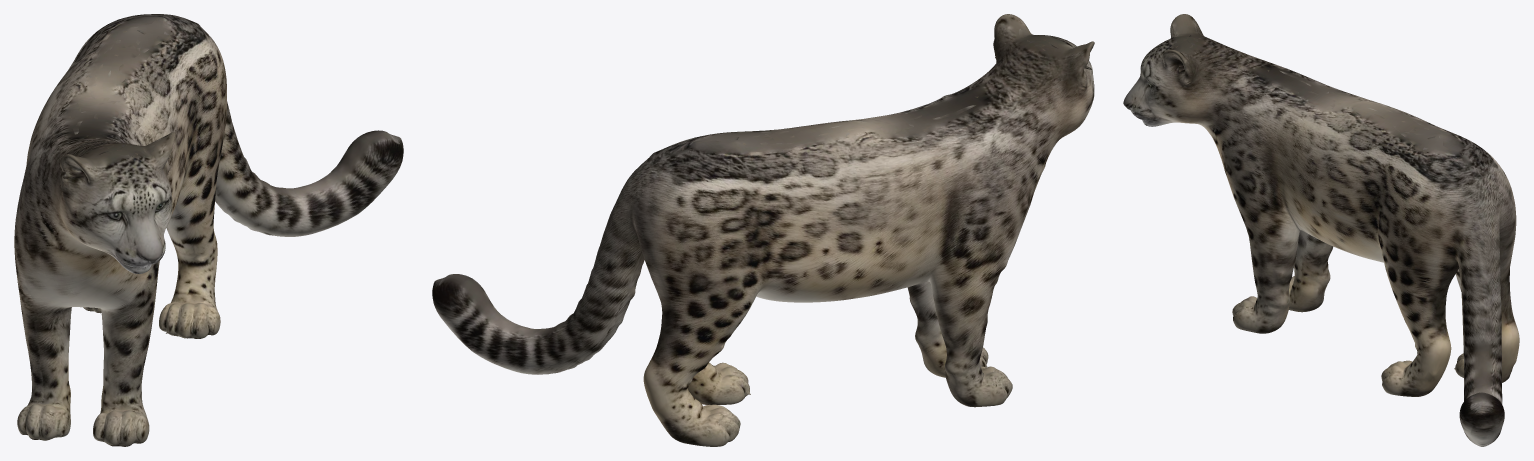
The model's file is snow-leopard.glb.
3 views of the same model, side by side, from view 1: azimuth 30°, elevation 25°; view 2: azimuth 150°, elevation 25°; view 3: azimuth 270°, elevation 25° (orthographic). The views are drawn at different scales.
Parts seen in each view (by area): view 1: node_0; view 2: node_0; view 3: node_0.
Part boxes in pixels (box(x1,y1,x2,y2)): node_0: box(14, 14, 403, 446); node_0: box(432, 14, 1094, 446); node_0: box(1123, 14, 1519, 446).
Size of the model in its own units: 0.92 by 0.5784 by 0.7558.
Materials: 1 (1 with a texture image).
